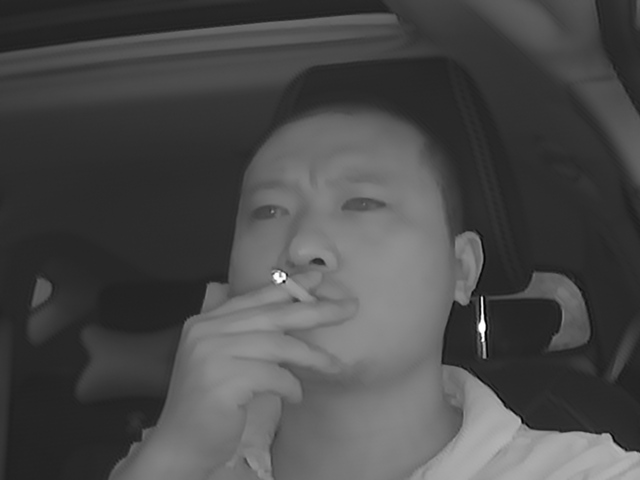hand: (203, 269, 357, 426)
